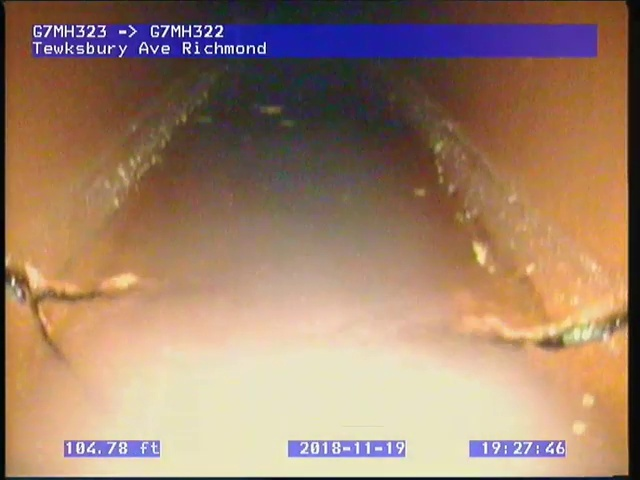crack: (4, 255, 140, 371), (508, 305, 627, 360)
